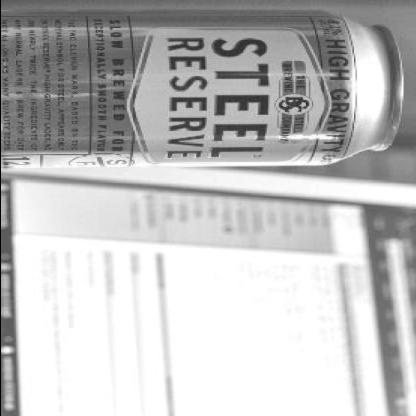alumunium_can: (0, 9, 409, 170)
